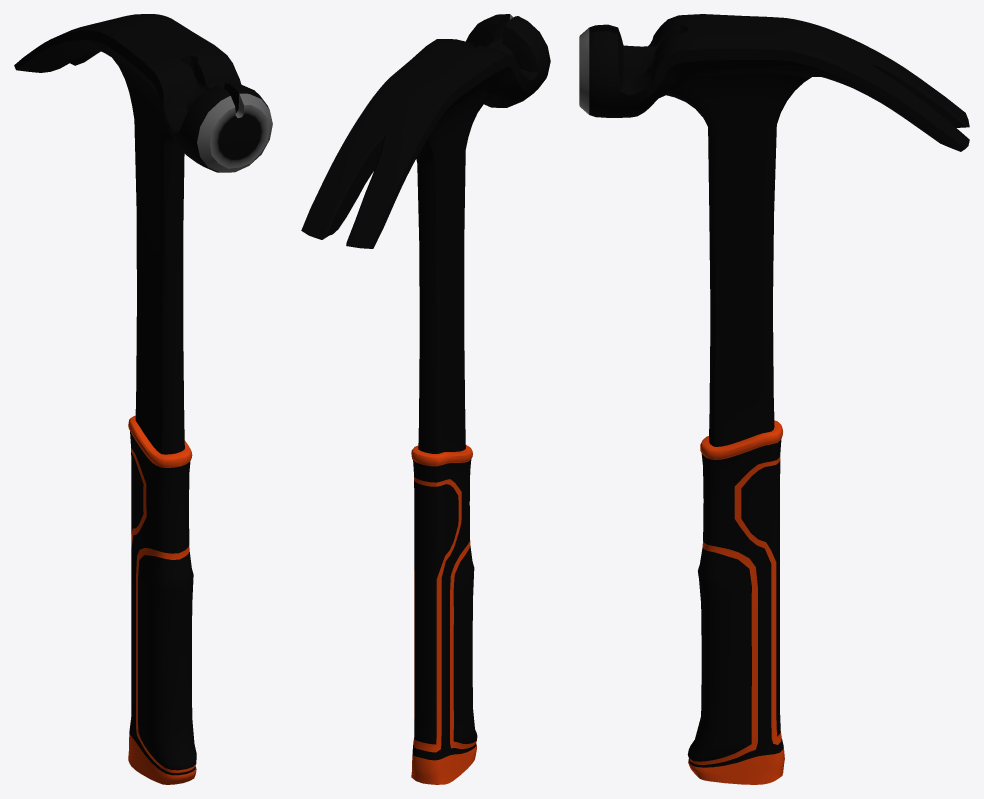
Rendered from AMHammer.fbx.
The picture shows the model from 3 angles, left to right: view 1: azimuth 30°, elevation 25°; view 2: azimuth 150°, elevation 25°; view 3: azimuth 270°, elevation 25°; orthographic projection. The views are drawn at different scales.
Parts seen in each view (by area): view 1: pCylinder1; view 2: pCylinder1; view 3: pCylinder1.
Part boxes in pixels (x1,y1,x2,y2): pCylinder1: [14, 14, 272, 784]; pCylinder1: [301, 14, 550, 784]; pCylinder1: [579, 14, 969, 784].
Size of the model in its own units: 22.87 by 197 by 92.8.
